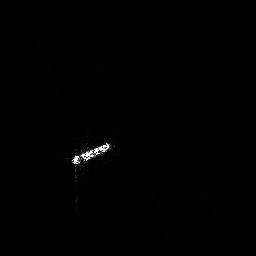ship: (67, 137, 115, 169)
